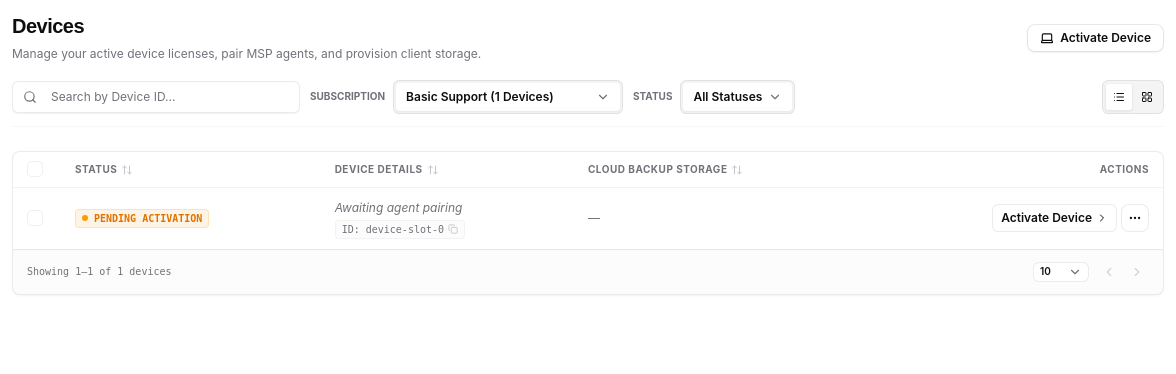
Scenario: DevicesPage › supports dropdown selector when multiple active subscriptions are present
The image size is (1176, 374).
Click the dropdown named "Select Subscription to Manage Devices" at (508, 96), box [396,82,620,110]
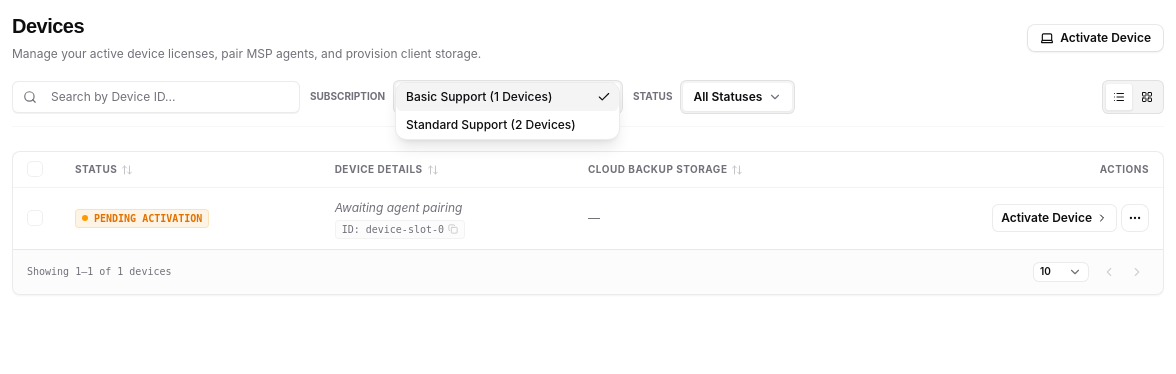
Expected: the option "Basic Support (1 Devices)" is shown, [396,82,619,110]
Expected: the option "Standard Support (2 Devices)" is shown
Click the option "Standard Support (2 Devices)" at (491, 124), box [406,116,576,132]
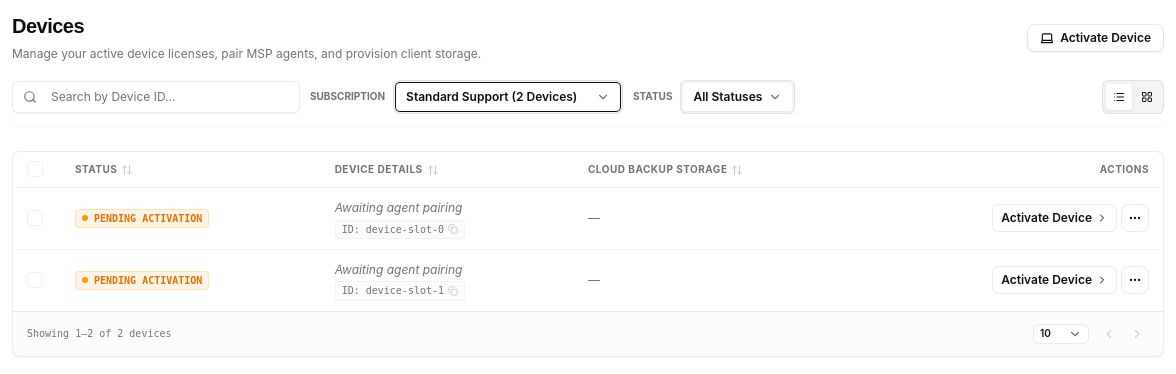
Expected: the dropdown named "Select Subscription to Manage Devices" reads "Standard Support (2 Devices)", [396,82,620,110]
